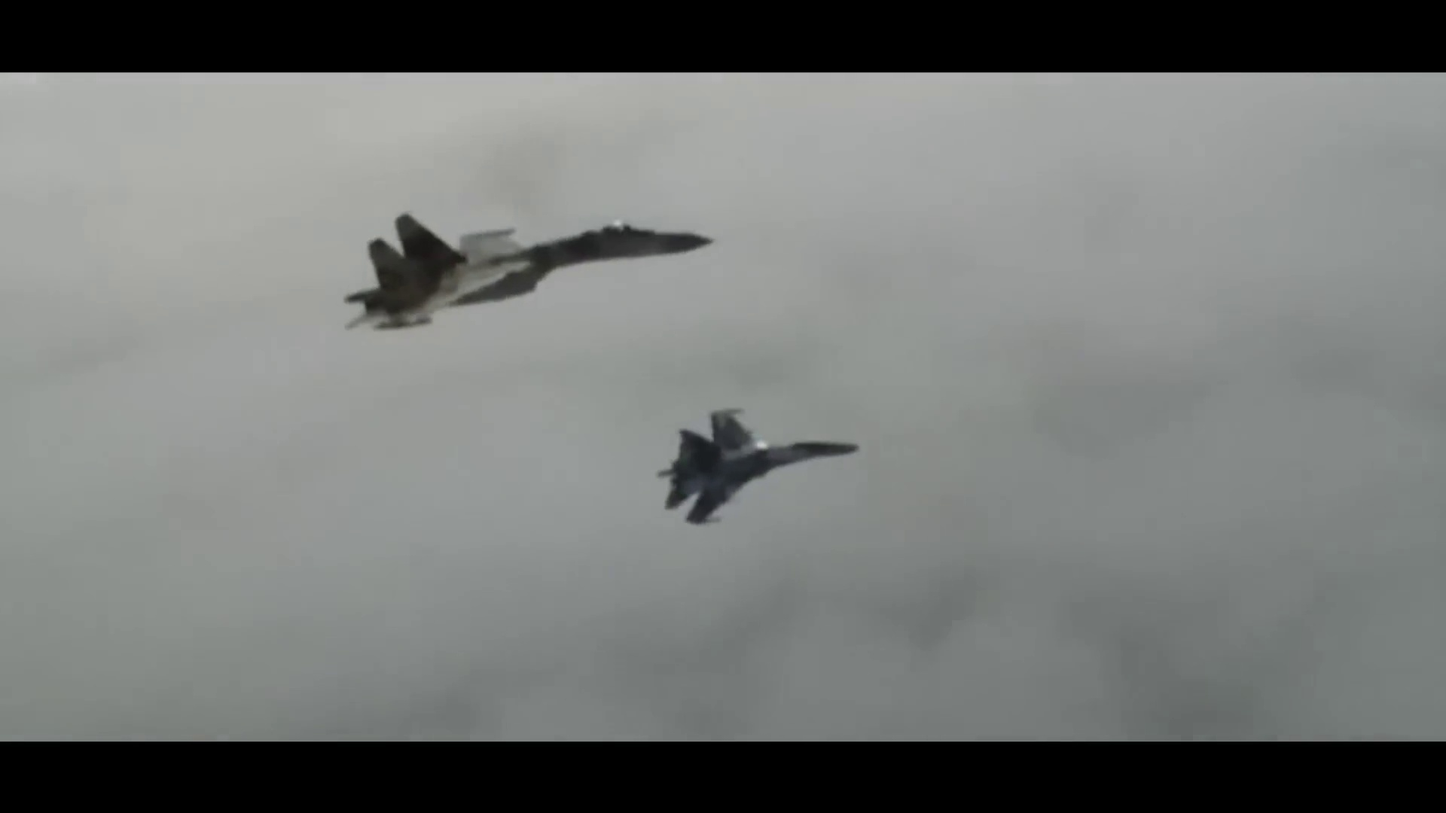Su35: (343, 213, 714, 332), (656, 407, 862, 525)
